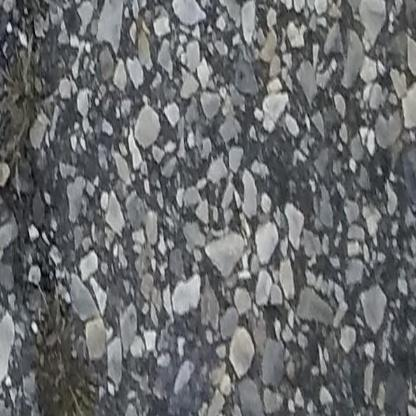Cracks: (0, 0, 124, 416)
